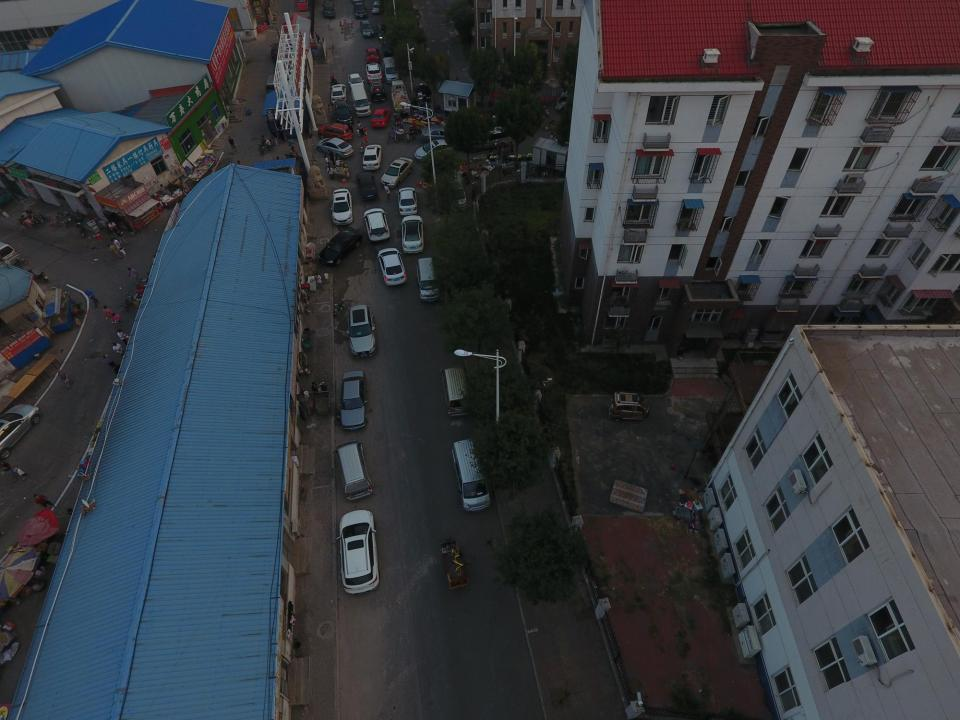car: (340, 509, 381, 596), (0, 401, 41, 459), (320, 225, 364, 268), (341, 368, 368, 433), (347, 304, 376, 356), (378, 248, 406, 288), (380, 158, 412, 188), (364, 207, 390, 243), (413, 139, 453, 161), (400, 216, 423, 253), (330, 187, 352, 224), (354, 170, 379, 202), (314, 136, 354, 154), (316, 122, 352, 139), (361, 144, 381, 172), (398, 185, 416, 216), (422, 126, 450, 144), (382, 55, 401, 81), (368, 81, 389, 102), (337, 103, 355, 127), (328, 82, 345, 106), (371, 107, 388, 128), (347, 74, 365, 88), (367, 62, 381, 80), (324, 0, 338, 18), (361, 19, 375, 36), (354, 5, 368, 20), (366, 49, 379, 62)
truck: (390, 79, 414, 113), (349, 83, 368, 117)
van: (451, 438, 492, 512), (333, 441, 372, 500), (441, 364, 473, 418), (417, 258, 443, 304)
